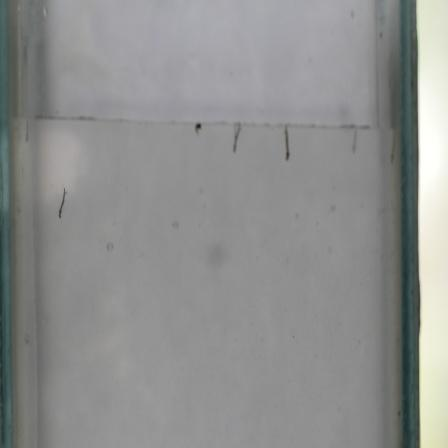Jentik-Nyamuk: (56, 186, 68, 220)
